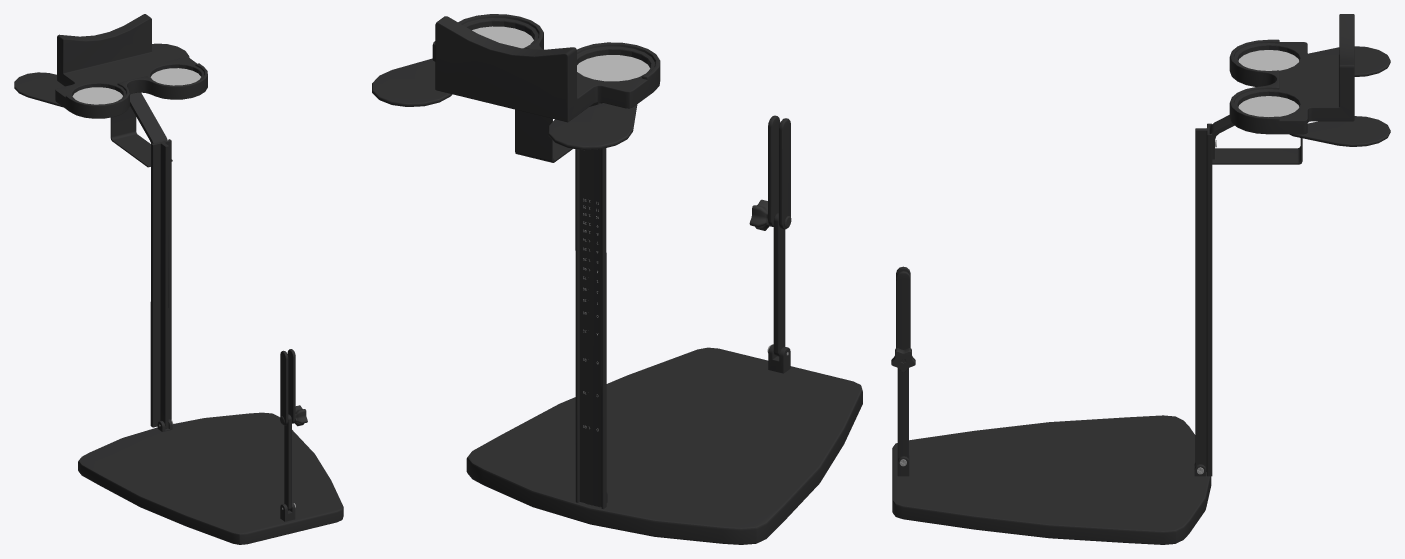
Rendered from JiaZi2.fbx.
3 renders of one model, left to right at view 1: azimuth 30°, elevation 25°; view 2: azimuth 150°, elevation 25°; view 3: azimuth 270°, elevation 25°, orthographic. The views are drawn at different scales.
Visible parts, largest first — view 1: diZuo_Mesh, fangYanjing_Mesh, keDu_Mesh, ZongJingQingXie_Mesh, qian_Shang_mesh, zuoEr_Mesh, qian_Mesh, jingPian_Trans_1_Mesh, jingPian_Trans_2_Mesh, youEr_Mesh; view 2: diZuo_Mesh, fangYanjing_Mesh, keDu_Mesh, zuoEr_Mesh, qian_Shang_mesh, youEr_Mesh, ZongJingQingXie_Mesh, qian_Mesh, jingPian_Trans_2_Mesh, jingPian_Trans_1_Mesh; view 3: diZuo_Mesh, fangYanjing_Mesh, keDu_Mesh, youEr_Mesh, ZongJingQingXie_Mesh, qian_Shang_mesh, zuoEr_Mesh, qian_Mesh, jingPian_Trans_1_Mesh, jingPian_Trans_2_Mesh.
Part boxes in pixels (bbox=[...]): diZuo_Mesh: bbox=[78, 412, 343, 544]; fangYanjing_Mesh: bbox=[55, 14, 207, 118]; keDu_Mesh: bbox=[150, 139, 171, 429]; ZongJingQingXie_Mesh: bbox=[110, 92, 172, 167]; qian_Shang_mesh: bbox=[280, 349, 307, 426]; zuoEr_Mesh: bbox=[14, 72, 64, 107]; qian_Mesh: bbox=[284, 414, 291, 510]; jingPian_Trans_1_Mesh: bbox=[150, 68, 200, 85]; jingPian_Trans_2_Mesh: bbox=[72, 87, 122, 104]; youEr_Mesh: bbox=[152, 43, 189, 61]; diZuo_Mesh: bbox=[466, 344, 862, 544]; fangYanjing_Mesh: bbox=[432, 14, 660, 122]; keDu_Mesh: bbox=[575, 102, 606, 509]; zuoEr_Mesh: bbox=[548, 103, 637, 150]; qian_Shang_mesh: bbox=[749, 115, 791, 230]; youEr_Mesh: bbox=[372, 58, 452, 106]; ZongJingQingXie_Mesh: bbox=[515, 102, 601, 162]; qian_Mesh: bbox=[773, 213, 785, 356]; jingPian_Trans_2_Mesh: bbox=[577, 55, 650, 81]; jingPian_Trans_1_Mesh: bbox=[472, 26, 533, 48]; diZuo_Mesh: bbox=[892, 415, 1211, 544]; fangYanjing_Mesh: bbox=[1229, 14, 1354, 134]; keDu_Mesh: bbox=[1195, 123, 1212, 476]; youEr_Mesh: bbox=[1289, 116, 1390, 146]; ZongJingQingXie_Mesh: bbox=[1209, 115, 1302, 164]; qian_Shang_mesh: bbox=[891, 266, 915, 372]; zuoEr_Mesh: bbox=[1308, 46, 1390, 76]; qian_Mesh: bbox=[897, 368, 908, 459]; jingPian_Trans_1_Mesh: bbox=[1238, 96, 1299, 116]; jingPian_Trans_2_Mesh: bbox=[1238, 50, 1298, 70].
Size of the model in its own units: 17.76 by 31.68 by 32.04.
